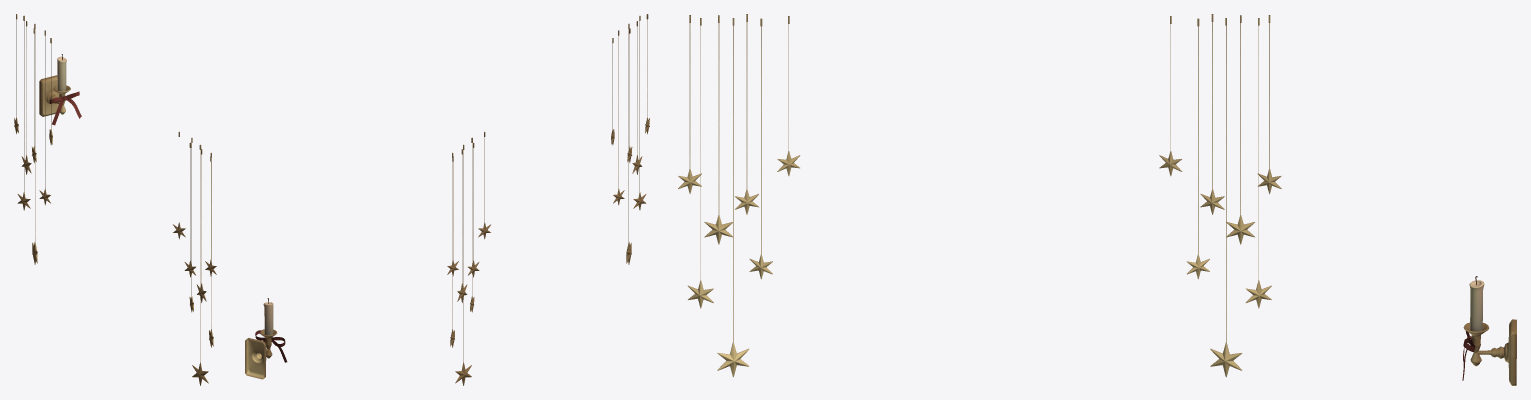
File: ChristmasRoom_WindowDeco.fbx
3 views of the same model, side by side, from view 1: azimuth 30°, elevation 25°; view 2: azimuth 150°, elevation 25°; view 3: azimuth 270°, elevation 25° (orthographic). The views are drawn at different scales.
Visible parts, largest first — view 1: ChristmasRoom_WindowDeco; view 2: ChristmasRoom_WindowDeco; view 3: ChristmasRoom_WindowDeco.
Part boxes in pixels (<box>): ChristmasRoom_WindowDeco: <box>14,14,216,385</box>; ChristmasRoom_WindowDeco: <box>245,14,649,385</box>; ChristmasRoom_WindowDeco: <box>678,14,1516,385</box>.
Size of the model in its own units: 83.96 by 145 by 306.
